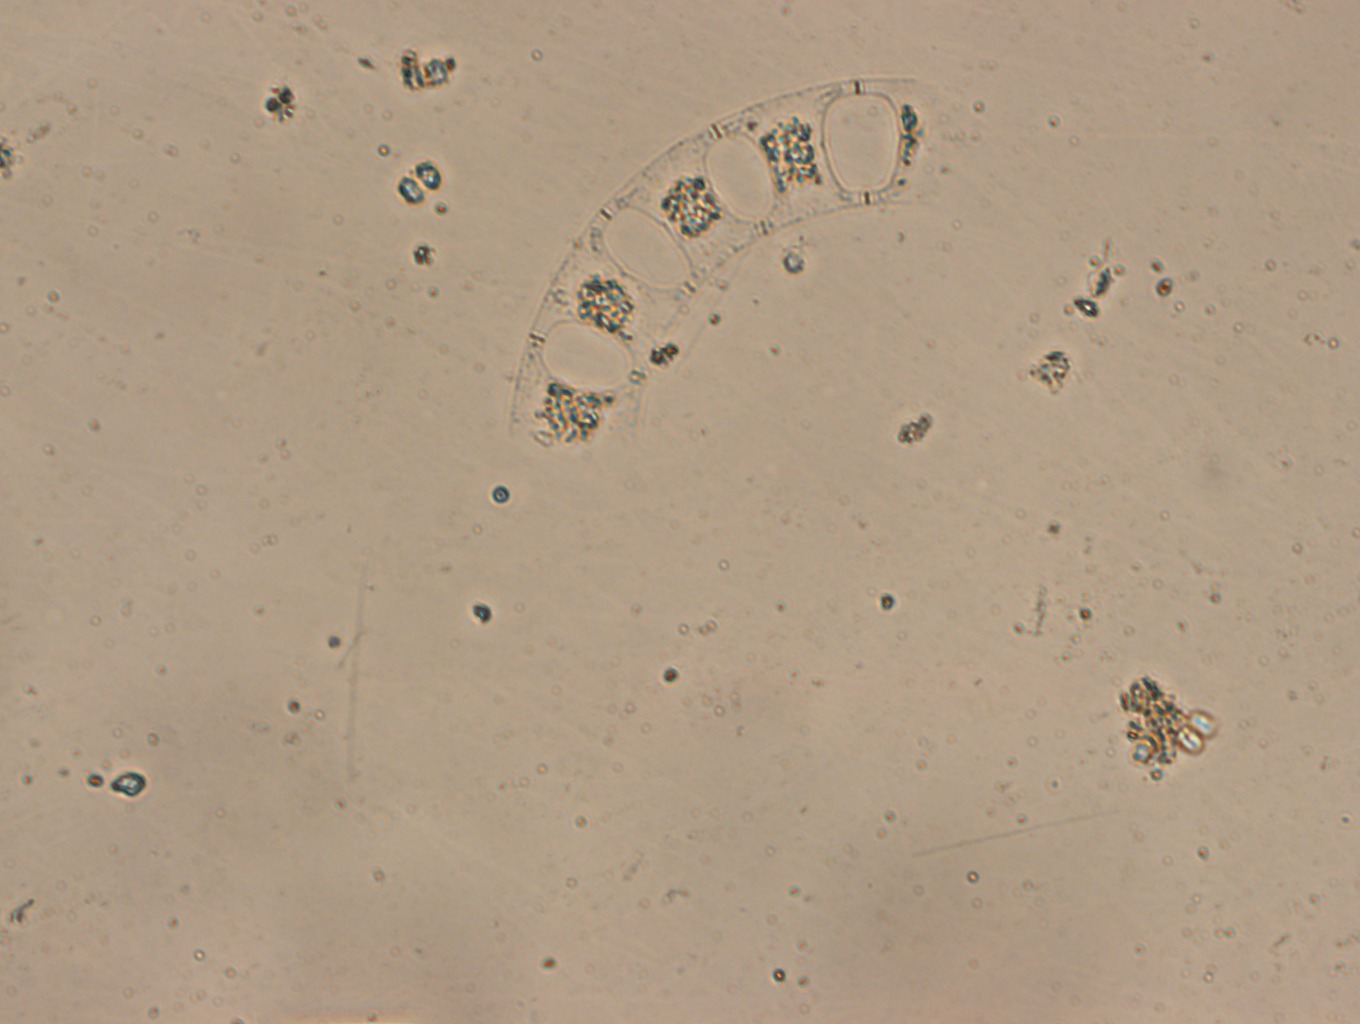eucampia: (509, 76, 930, 441)
